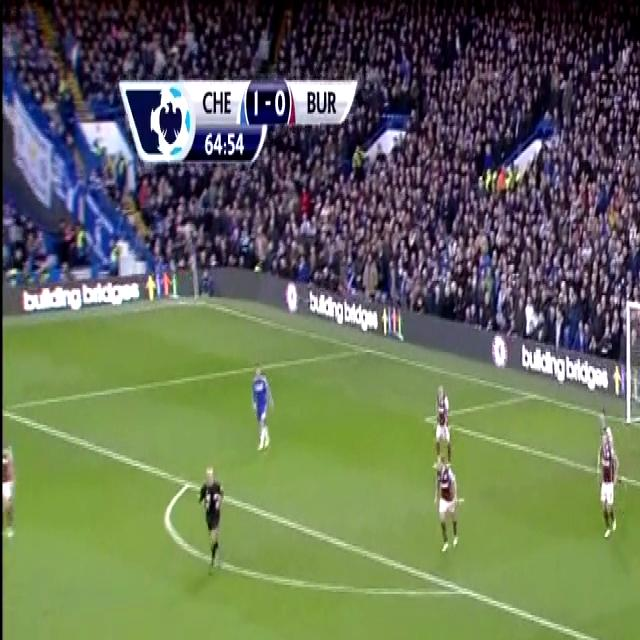referee: (193, 456, 230, 584)
soccer-player: (589, 414, 623, 547), (430, 445, 465, 562), (248, 358, 280, 460), (428, 374, 455, 467)
